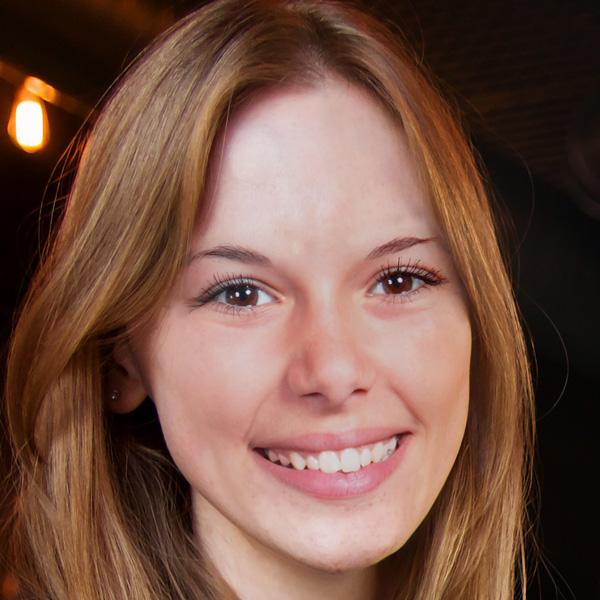Eyes: (185, 269, 292, 330), (355, 256, 447, 315)
